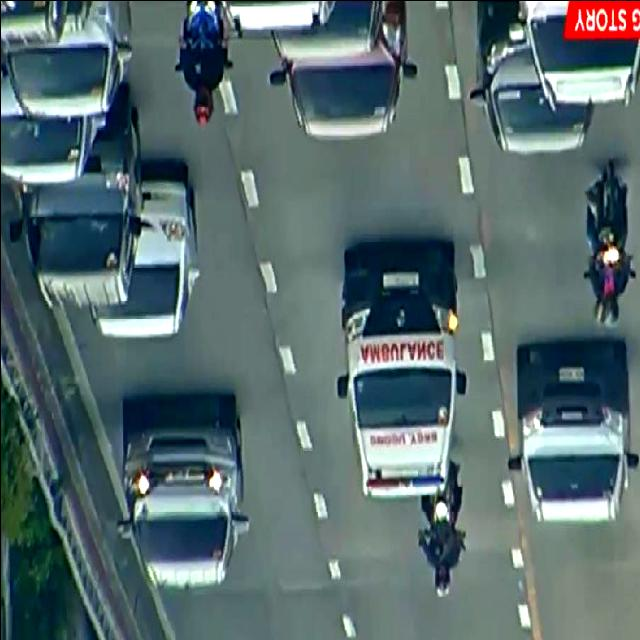emergency: (328, 230, 471, 512)
